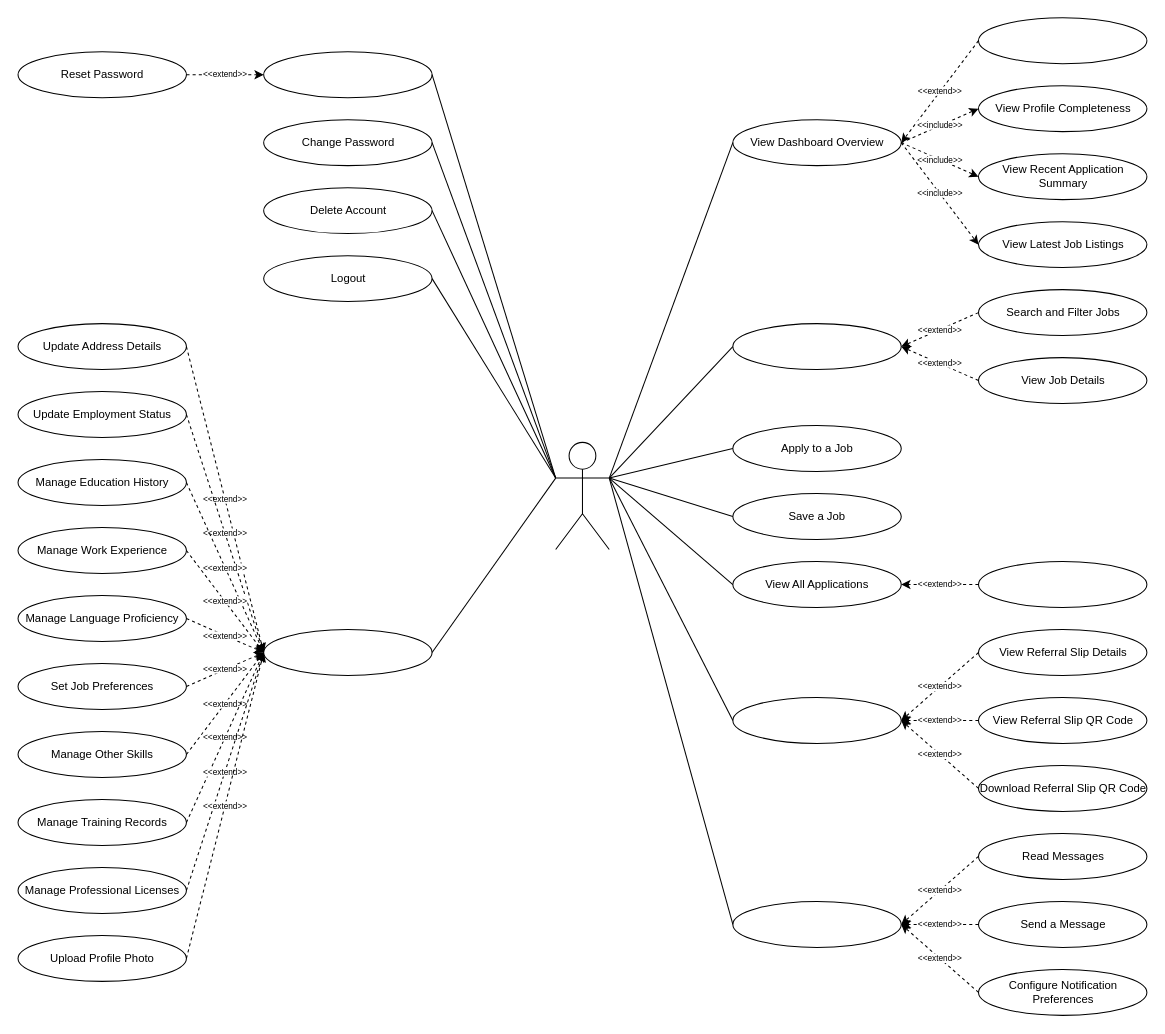
The diagram is 1165 pixels wide and 1034 high, and some of its shapes have lost their labels. Each missing label, with the centre of its shape:
Browse Job Listings: point (816, 346)
Edit Personal Information: point (347, 652)
Job Seeker (Authenticated User): point (582, 495)
Login to Account: point (347, 74)
Search and Filter Applications: point (1062, 584)
Toggle Job-Seeking Status: point (1062, 40)
View My Referral Slips: point (816, 719)
View Notifications: point (816, 923)
